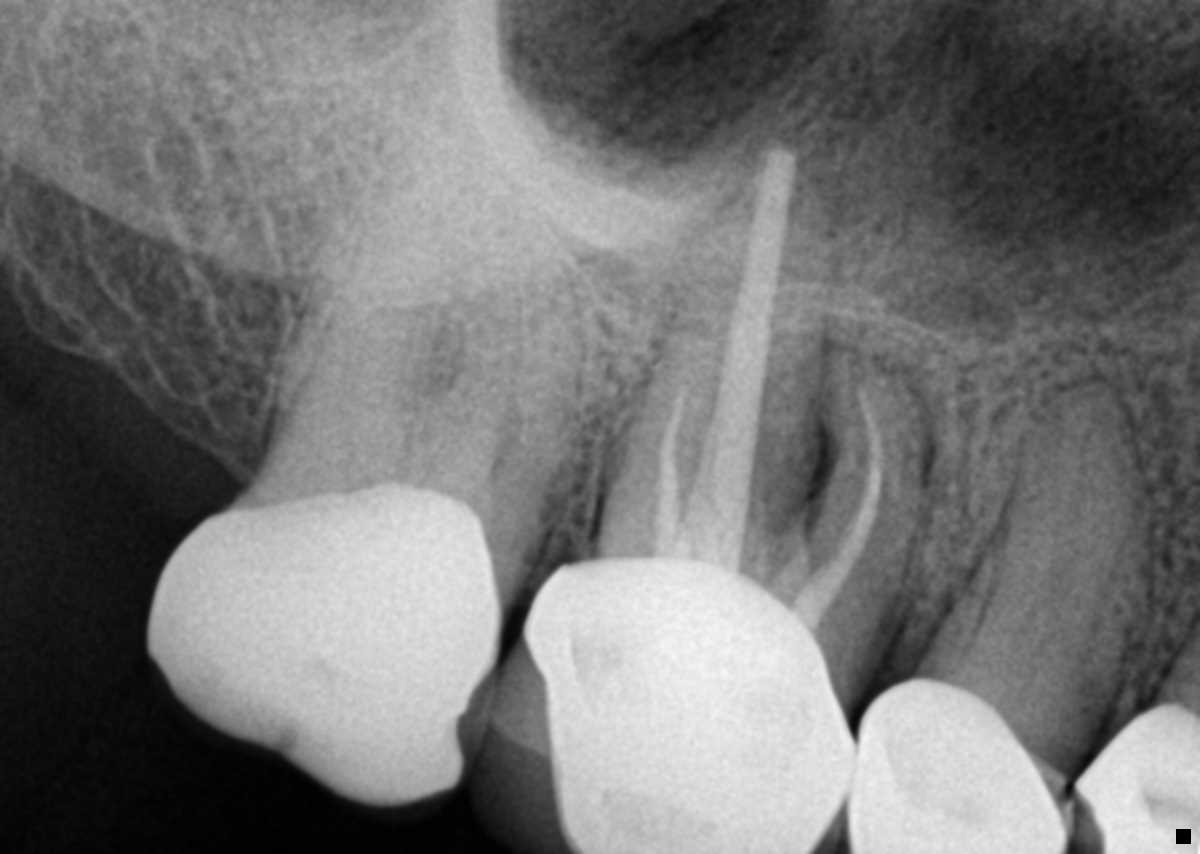Apical Lesion: (790, 326, 947, 478)
Distal Root: (267, 165, 461, 436), (585, 315, 730, 570)
Main Root: (913, 381, 1149, 783)
Mesial Root: (767, 351, 924, 688), (420, 188, 581, 496)
Palatal Root: (240, 73, 561, 563), (596, 147, 833, 596)
Root Canal Filling: (671, 145, 790, 567), (788, 383, 885, 626), (652, 386, 694, 561)
